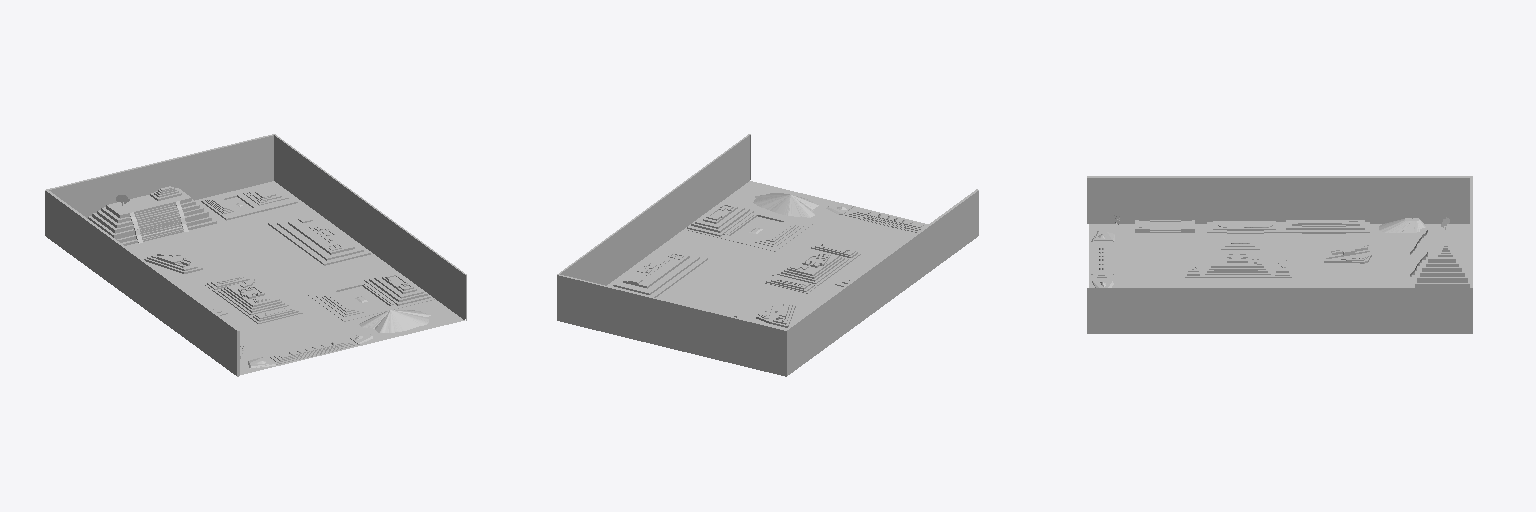
The model's file is Monte Alban 3.obj.
3 renders of one model, left to right at view 1: azimuth 30°, elevation 25°; view 2: azimuth 150°, elevation 25°; view 3: azimuth 270°, elevation 25°, orthographic.
Parts seen in each view (by area): view 1: Mesh21 Model; view 2: Mesh21 Model; view 3: Mesh21 Model.
Boxes of the visible parts, x1,y1,x2,y2 form: Mesh21 Model: [45, 134, 466, 376]; Mesh21 Model: [557, 134, 978, 376]; Mesh21 Model: [1087, 176, 1472, 333].
Bounding box in the file's own units: 551 × 108 × 800.